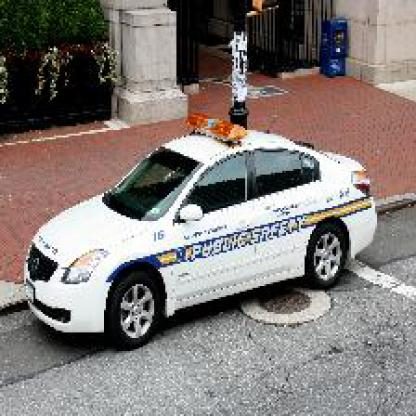emergency: (26, 115, 384, 364)
